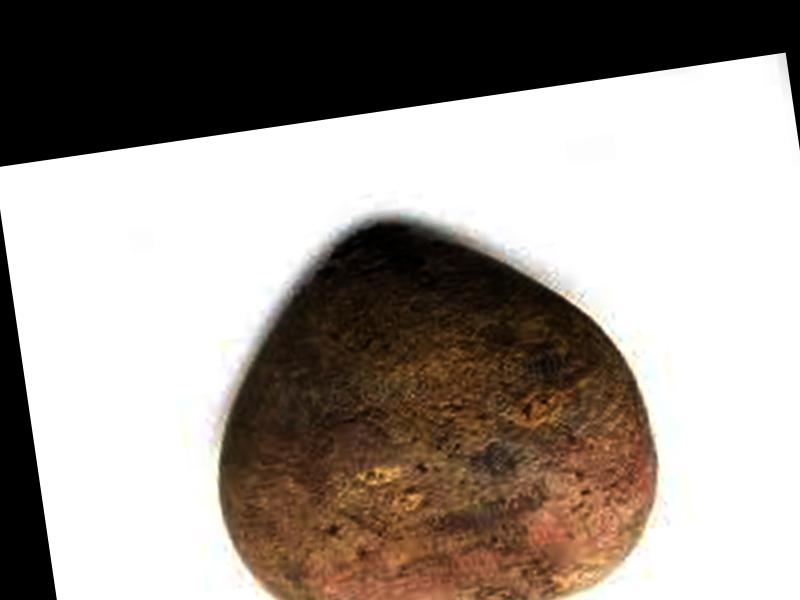Beet: (182, 191, 676, 600)
